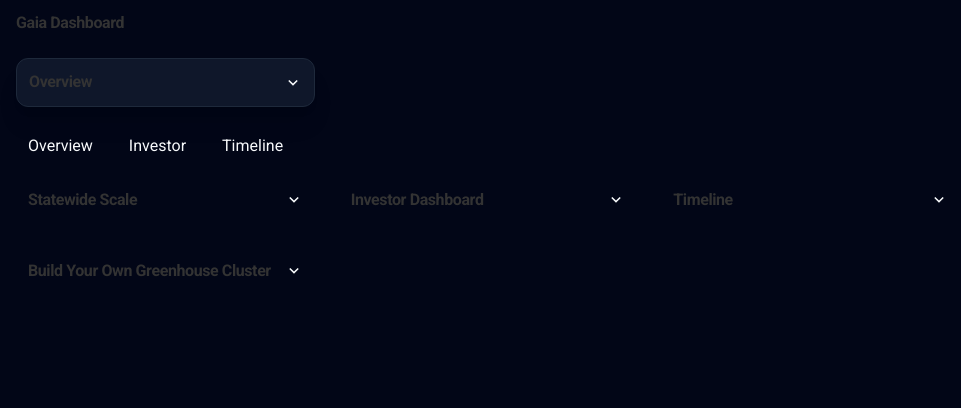
Test case: Dashboard page — Overview section content (PR fix) › shows actual health status when health data is provided
Click the 1st button "Expand".
click(293, 83)  # box [284,74,302,92]
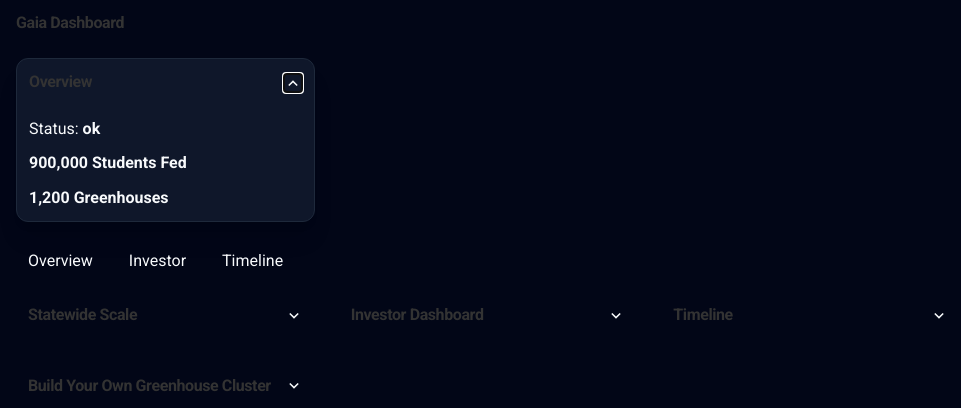
Expected: the text "ok" is shown, [83,119,100,138]
